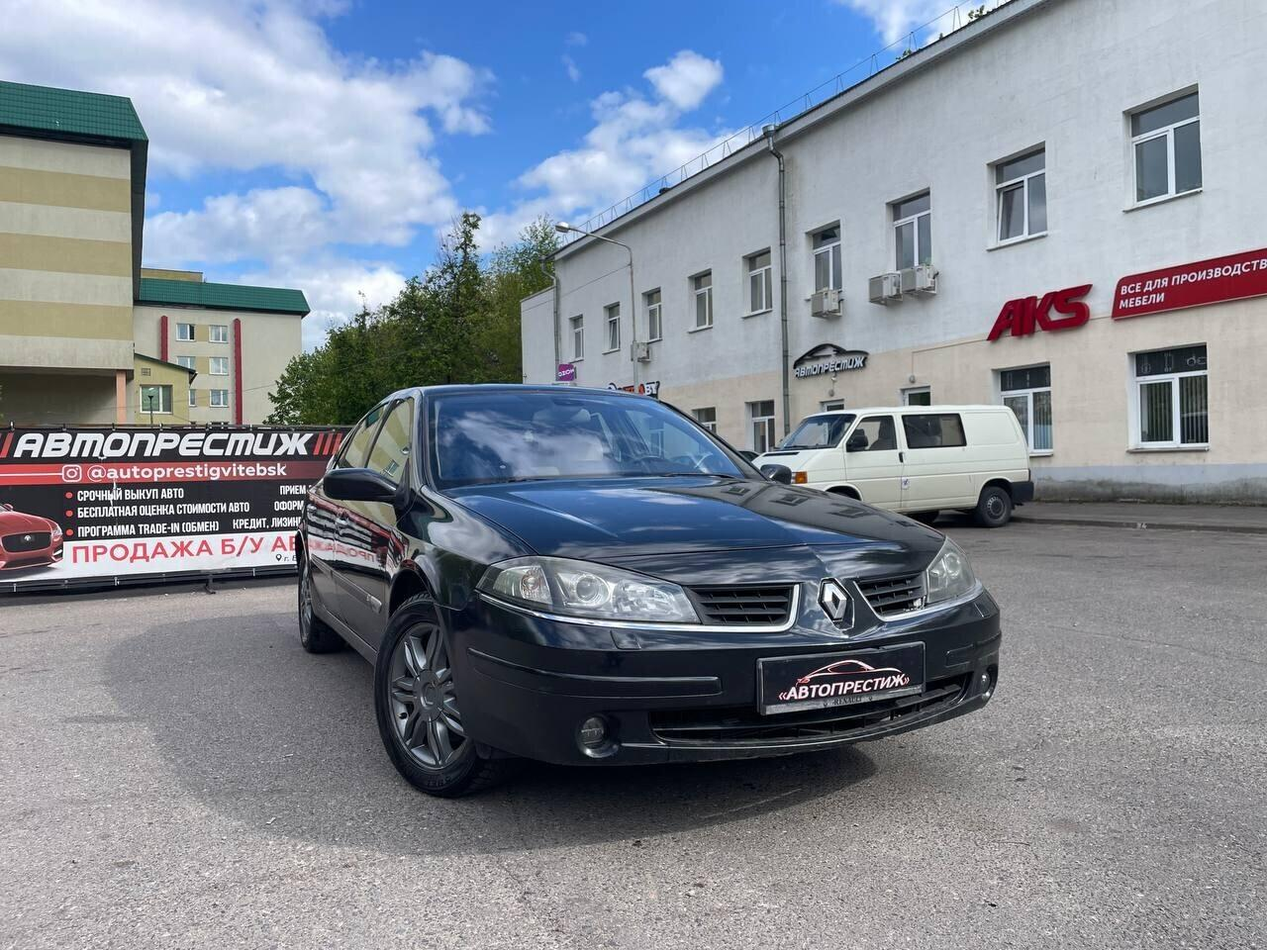Laguna_2005-2007: (288, 380, 1010, 814)
